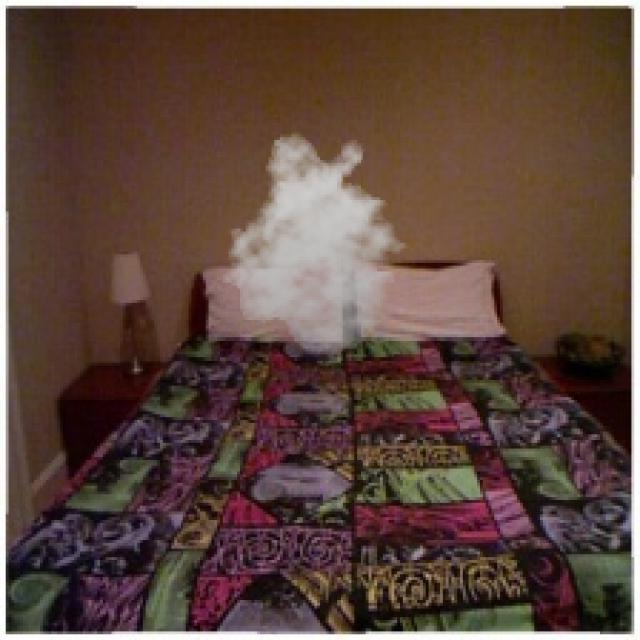Smoke: (217, 132, 417, 354)
